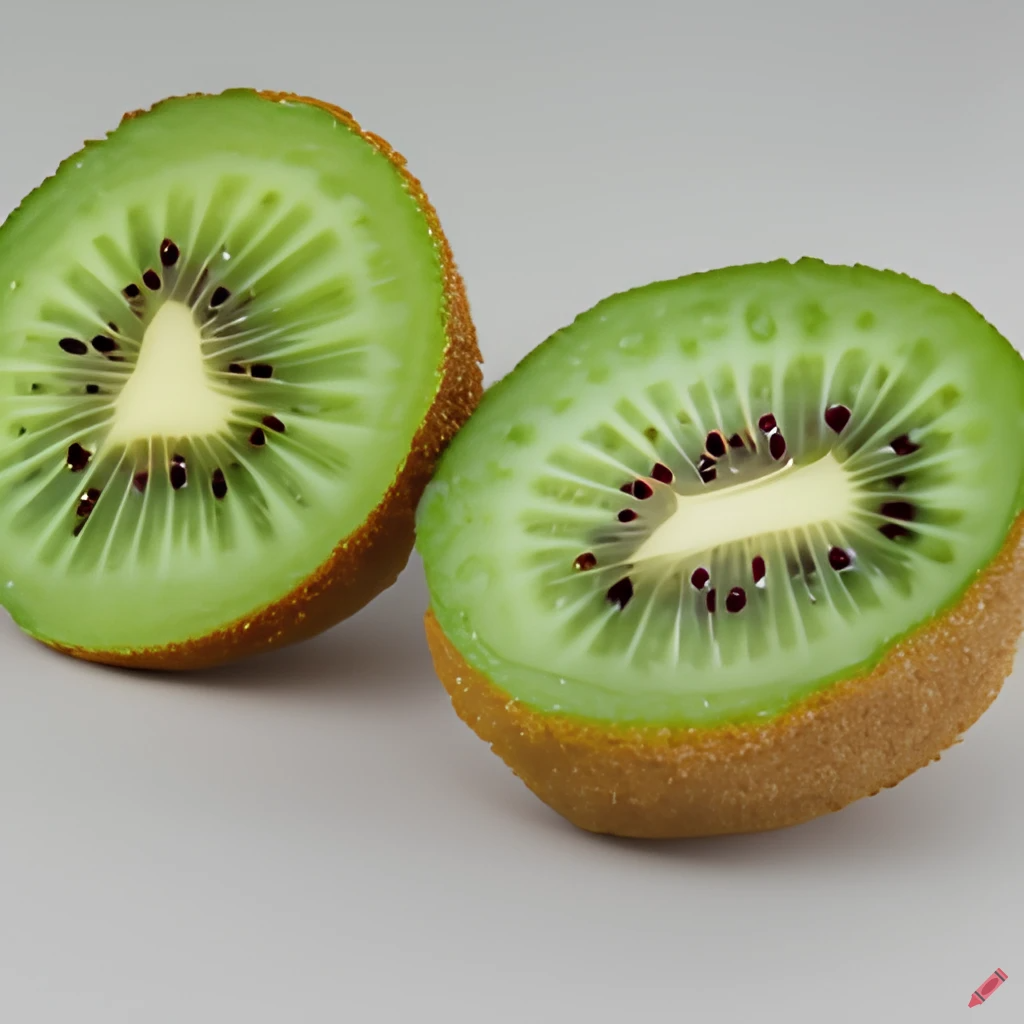Kiwi: (374, 191, 1012, 840)
